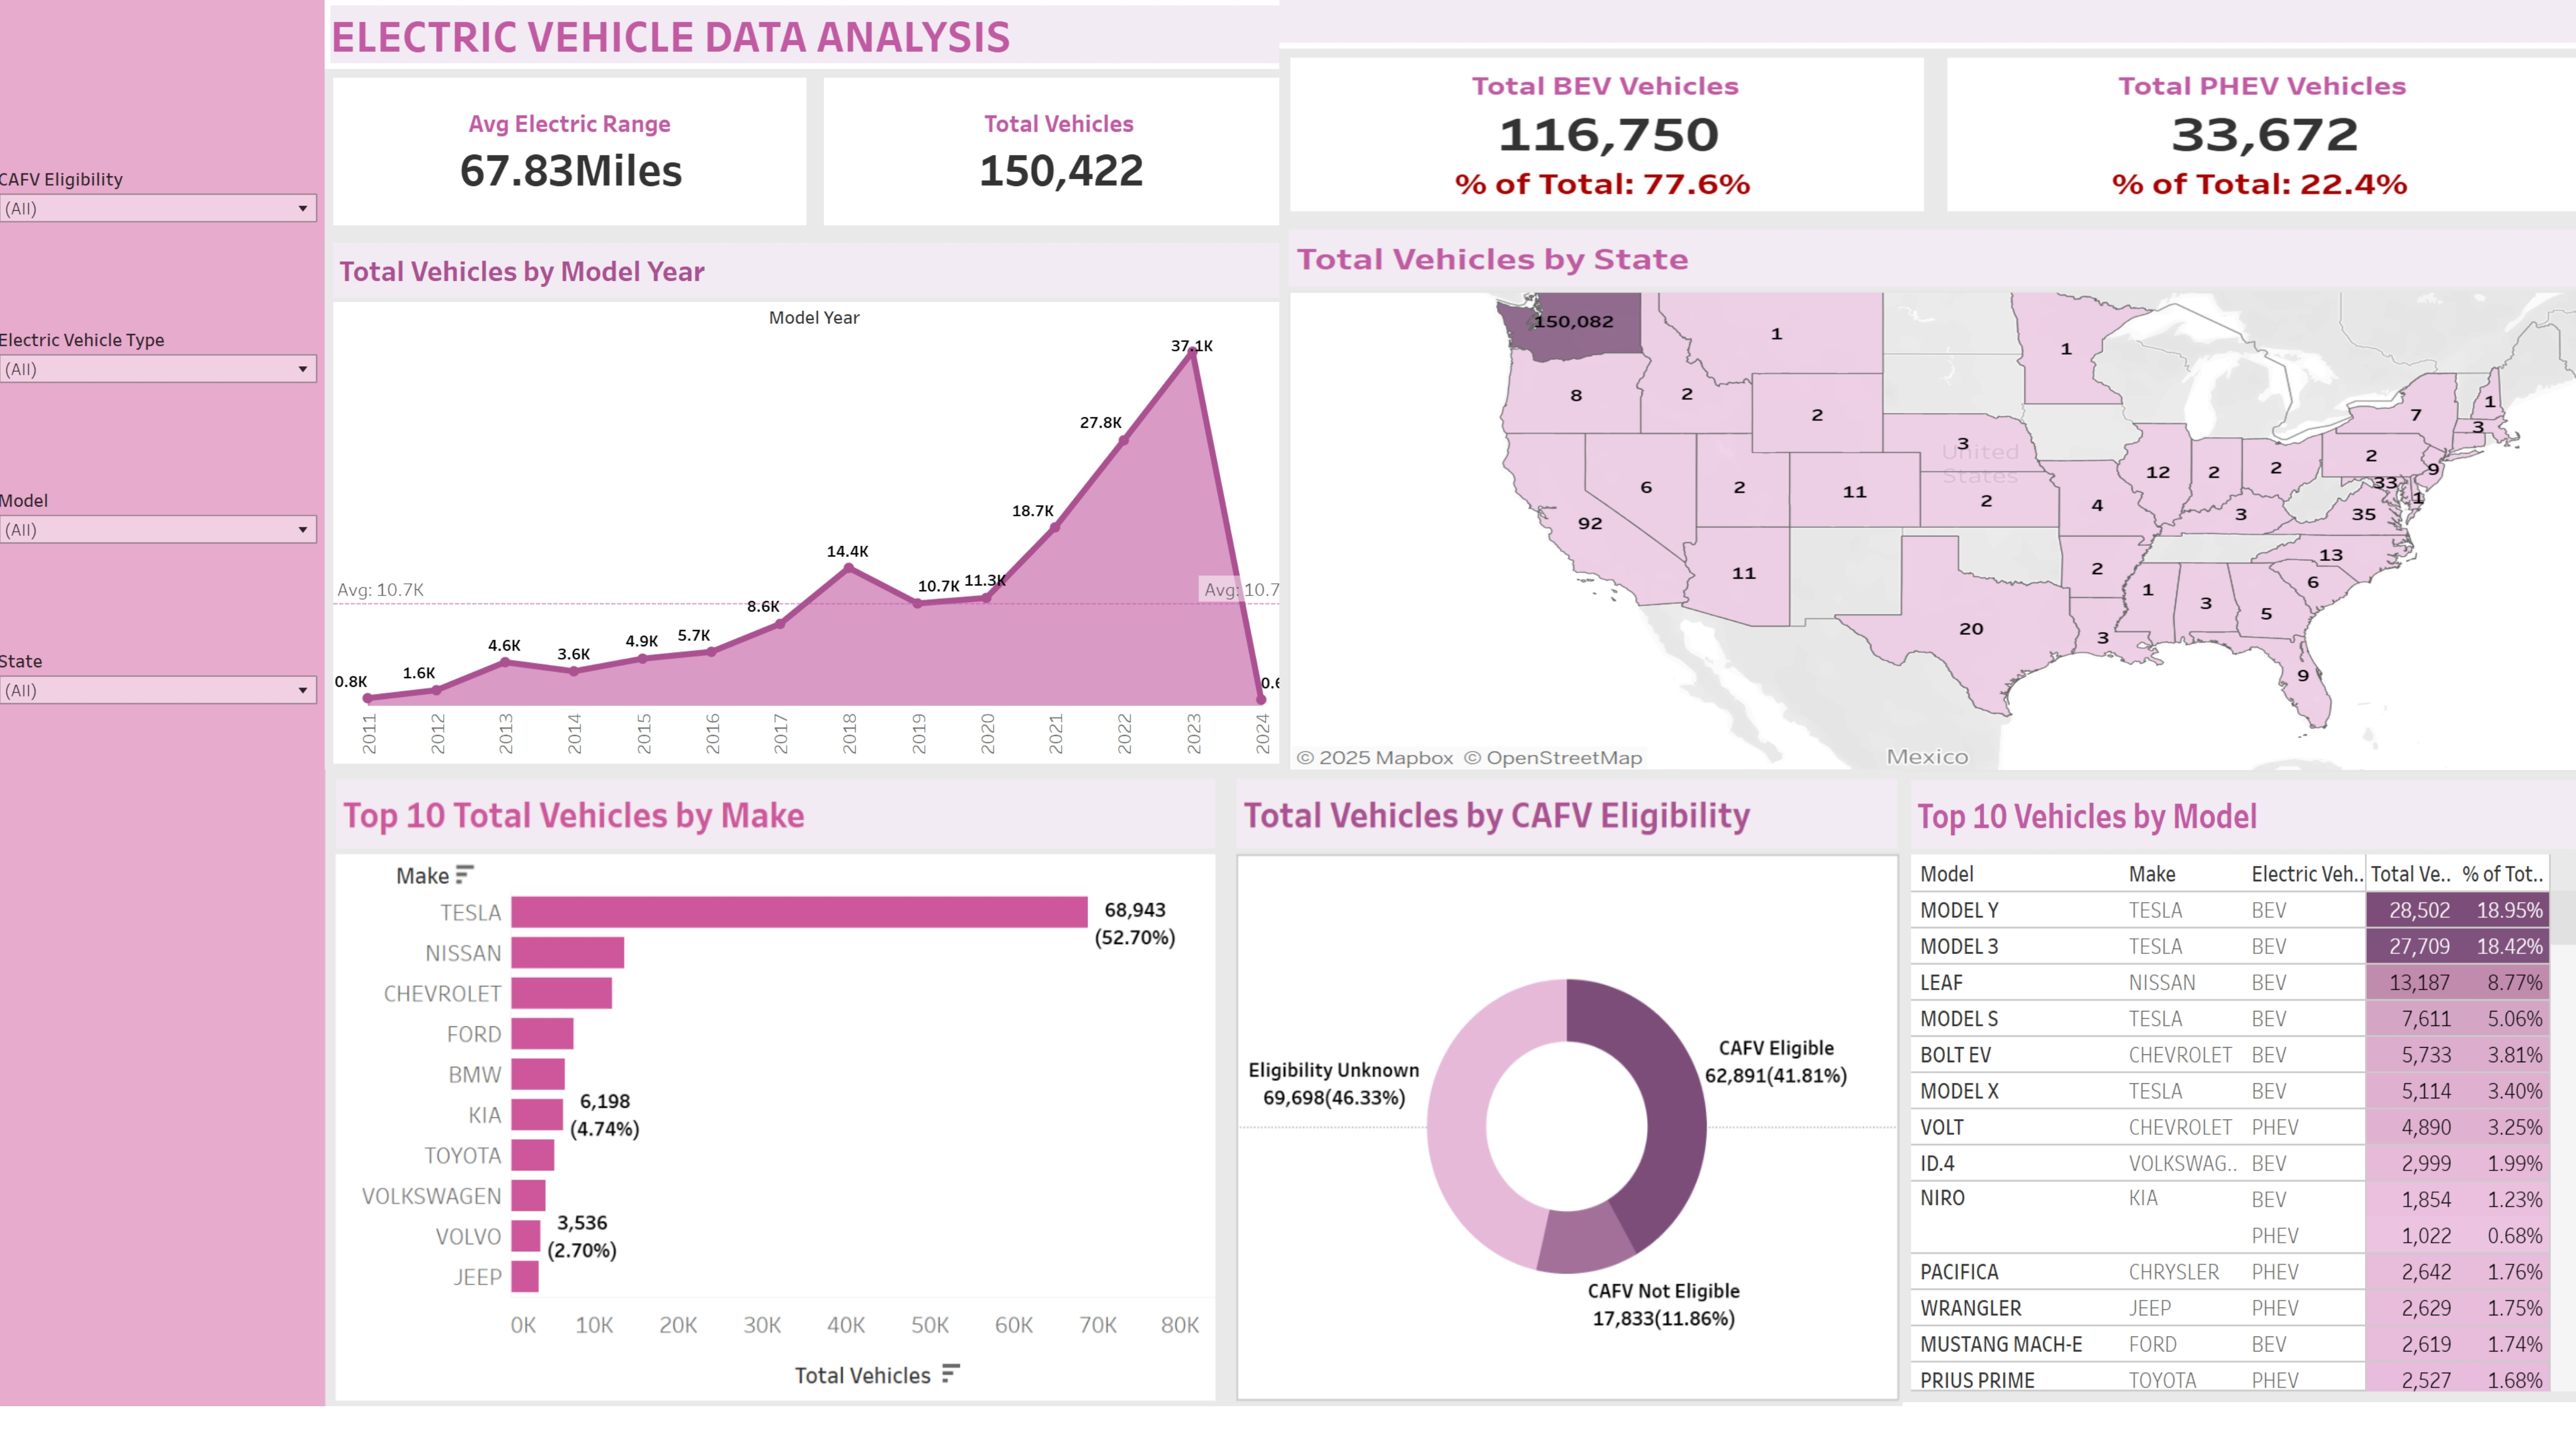

The dashboard page shown, as its layout file describes it:
{"tool":"tableau","page":{"name":"Dashboard 1","canvas":[1600,900],"ordinal":0},"visuals":[{"type":"blank","box":[8,8,230,111]},{"type":"title","box":[238,8,1354,48]},{"type":"worksheet","title":"Avg Electric Range","mark":"Automatic","box":[238,56,339,114]},{"type":"worksheet","title":"Total Vehicles","mark":"Automatic","box":[577,56,339,114]},{"type":"worksheet","title":"Total BEV Vehicles","mark":"Automatic","box":[916,56,338,114]},{"type":"worksheet","title":"Total PHEV Vehicles","mark":"Automatic","box":[1254,56,338,114]},{"type":"filter","title":"Total Vehicles by State","param":"[federated.16l36ep0o3e48q16pd6640x7os66].[none:Clean Alternative Fuel Vehicle (C","box":[8,119,230,111]},{"type":"worksheet","title":"Total Vehicles by Model Year","mark":"Area","rows":["Calculation_918171408350584832","Calculation_918171408350584832"],"cols":["Model Year"],"box":[238,170,677,372]},{"type":"worksheet","title":"Total Vehicles by State","mark":"Multipolygon","box":[915,170,677,372]},{"type":"filter","title":"Total Vehicles by State","param":"[federated.16l36ep0o3e48q16pd6640x7os66].[none:Electric Vehicle Type:nk]","box":[8,230,230,111]},{"type":"filter","title":"Total Vehicles by State","param":"[federated.16l36ep0o3e48q16pd6640x7os66].[none:Model:nk]","box":[8,341,230,111]},{"type":"filter","title":"Total Vehicles by State","param":"[federated.16l36ep0o3e48q16pd6640x7os66].[none:State:nk]","box":[8,452,230,110]},{"type":"worksheet","title":"Top 10 Total Vehicles by Make","mark":"Bar","rows":["Make"],"cols":["Calculation_918171408350584832"],"box":[238,542,515,350]},{"type":"worksheet","title":"Total Vehicles by CAFV Eligibility","mark":"Pie","rows":["Calculation_918171408366493705","Calculation_918171408366493705"],"box":[753,542,392,350]},{"type":"worksheet","title":"Top 10 Vehicles by Model","mark":"Square","rows":["Model","Make","Electric Vehicle Type"],"box":[1145,542,447,350]},{"type":"blank","box":[8,562,230,110]},{"type":"blank","box":[8,672,230,110]},{"type":"blank","box":[8,782,230,110]}]}

Visuals, with their boxes in screenshot pixels (x1, y1, x2, y2), scaled from the page's 1600x900 canvas onto the 2576x1448 screenshot:
blank: x1=13 y1=13 x2=383 y2=191
title: x1=383 y1=13 x2=2563 y2=90
"Avg Electric Range" worksheet: x1=383 y1=90 x2=929 y2=274
"Total Vehicles" worksheet: x1=929 y1=90 x2=1475 y2=274
"Total BEV Vehicles" worksheet: x1=1475 y1=90 x2=2019 y2=274
"Total PHEV Vehicles" worksheet: x1=2019 y1=90 x2=2563 y2=274
"Total Vehicles by State" filter: x1=13 y1=191 x2=383 y2=370
"Total Vehicles by Model Year" worksheet (Area marks): x1=383 y1=274 x2=1473 y2=872
"Total Vehicles by State" worksheet (Multipolygon marks): x1=1473 y1=274 x2=2563 y2=872
"Total Vehicles by State" filter: x1=13 y1=370 x2=383 y2=549
"Total Vehicles by State" filter: x1=13 y1=549 x2=383 y2=727
"Total Vehicles by State" filter: x1=13 y1=727 x2=383 y2=904
"Top 10 Total Vehicles by Make" worksheet (Bar marks): x1=383 y1=872 x2=1212 y2=1435
"Total Vehicles by CAFV Eligibility" worksheet (Pie marks): x1=1212 y1=872 x2=1844 y2=1435
"Top 10 Vehicles by Model" worksheet (Square marks): x1=1844 y1=872 x2=2563 y2=1435
blank: x1=13 y1=904 x2=383 y2=1081
blank: x1=13 y1=1081 x2=383 y2=1258
blank: x1=13 y1=1258 x2=383 y2=1435
